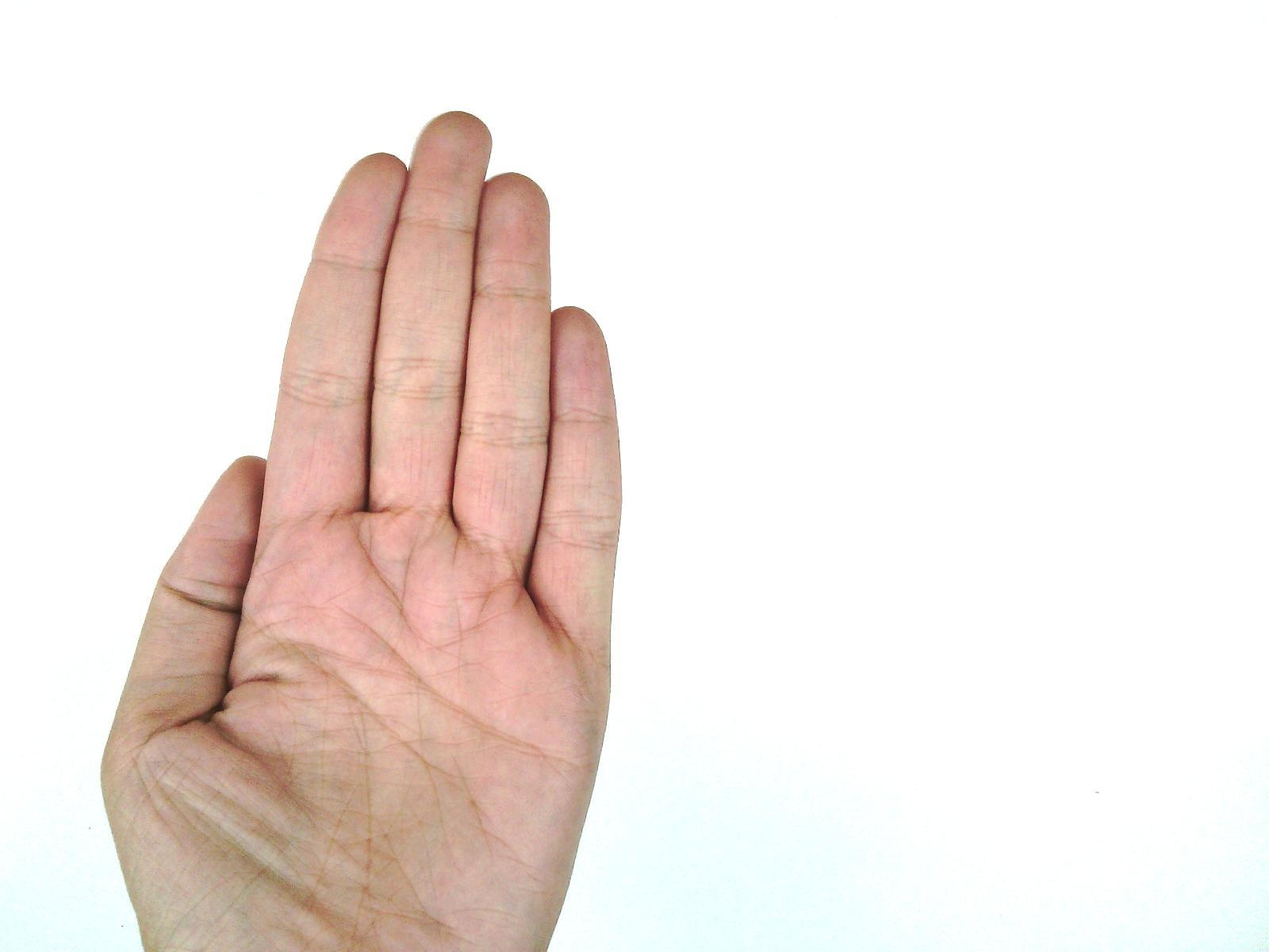open_palm: (98, 109, 627, 951)
